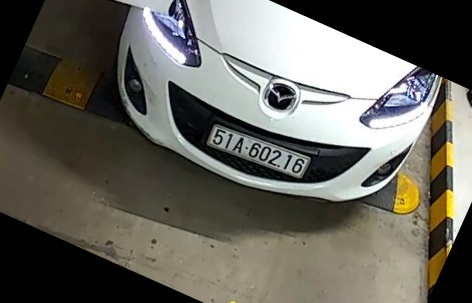plate: (203, 123, 315, 178)
